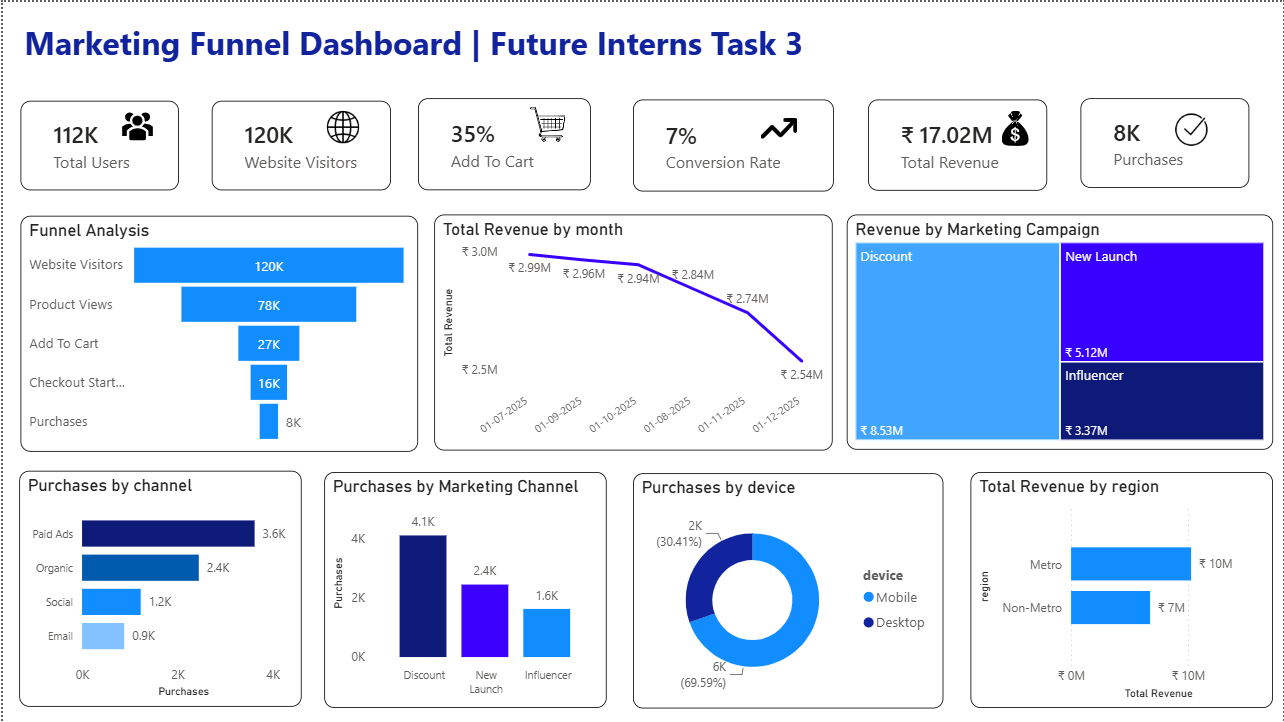

Layout of this report page (visuals, bound fields, positions):
{"tool":"powerbi","page":{"name":"Page 1","canvas":[1280,720],"ordinal":0},"visuals":[{"type":"cardVisual","fields":{"Data":["d2c_marketing_funnel_data.Total Users"]},"box":[17.2,99,158.4,89.8],"z":0},{"type":"cardVisual","fields":{"Data":["d2c_marketing_funnel_data.Website Visitors"]},"box":[208.5,99,179.5,89.8],"z":1000},{"type":"cardVisual","fields":{"Data":["d2c_marketing_funnel_data.Conversion Rate"]},"box":[629.6,97.7,200.6,92.4],"z":2000},{"type":"cardVisual","fields":{"Data":["d2c_marketing_funnel_data.Product to Cart %"]},"box":[414.4,96.4,172.9,92.4],"z":3000},{"type":"cardVisual","fields":{"Data":["d2c_marketing_funnel_data.Total Revenue"]},"box":[864.5,97.7,179.5,91.1],"z":4000},{"type":"cardVisual","fields":{"Data":["d2c_marketing_funnel_data.Purchases"]},"box":[1077,96.4,168.9,89.8],"z":5000},{"type":"funnel","title":"Funnel Analysis","fields":{"Y":["d2c_marketing_funnel_data.Website Visitors","d2c_marketing_funnel_data.Product Views","d2c_marketing_funnel_data.Add To Cart","d2c_marketing_funnel_data.Checkout Started","d2c_marketing_funnel_data.Purchases"]},"box":[17.2,213.8,397.3,236.3],"z":6000},{"type":"lineChart","fields":{"Y":["d2c_marketing_funnel_data.Total Revenue"],"Category":["d2c_marketing_funnel_data.month"]},"box":[431.6,212.5,398.6,236.3],"z":7000},{"type":"clusteredBarChart","fields":{"Category":["d2c_marketing_funnel_data.channel"],"Y":["d2c_marketing_funnel_data.Purchases"]},"box":[15.8,468.6,282.5,236.3],"z":8000},{"type":"clusteredColumnChart","title":"Purchases by Marketing Channel","fields":{"Category":["d2c_marketing_funnel_data.campaign_type"],"Y":["d2c_marketing_funnel_data.Purchases"]},"box":[320.7,469.9,282.5,236.3],"z":9000},{"type":"donutChart","fields":{"Y":["d2c_marketing_funnel_data.Purchases"],"Category":["d2c_marketing_funnel_data.device"]},"box":[629.6,471.2,310.2,234.9],"z":10000},{"type":"barChart","fields":{"Y":["d2c_marketing_funnel_data.Total Revenue"],"Category":["d2c_marketing_funnel_data.region"]},"box":[967.5,469.9,302.2,236.3],"z":11000},{"type":"treemap","title":"Revenue by Marketing Campaign","fields":{"Group":["d2c_marketing_funnel_data.campaign_type"],"Values":["d2c_marketing_funnel_data.Total Revenue"]},"box":[843.4,212.5,426.3,234.9],"z":12000},{"type":"textbox","box":[15.8,13.2,813,59.4],"z":13000},{"type":"image","box":[112.5,103.9,44,40.4],"z":13001},{"type":"image","box":[525.8,105.2,36.7,35.5],"z":13002},{"type":"image","box":[994.2,108.8,36.7,35.5],"z":13003},{"type":"image","box":[320.4,107.6,40.4,35.5],"z":13004},{"type":"image","box":[756.9,108.8,36.7,35.5],"z":13005},{"type":"image","box":[1170.3,110.1,36.7,35.5],"z":13006}]}

Visuals, with their boxes in screenshot pixels (x1, y1, x2, y2), scaled from the page's 1280x720 canvas onto the 1284x722 screenshot:
cardVisual - d2c_marketing_funnel_data.Total Users: (17,99,176,189)
cardVisual - d2c_marketing_funnel_data.Website Visitors: (209,99,389,189)
cardVisual - d2c_marketing_funnel_data.Conversion Rate: (632,98,833,191)
cardVisual - d2c_marketing_funnel_data.Product to Cart %: (416,97,589,189)
cardVisual - d2c_marketing_funnel_data.Total Revenue: (867,98,1047,189)
cardVisual - d2c_marketing_funnel_data.Purchases: (1080,97,1250,187)
"Funnel Analysis" funnel: (17,214,416,451)
lineChart - d2c_marketing_funnel_data.Total Revenue x d2c_marketing_funnel_data.month: (433,213,833,450)
clusteredBarChart - d2c_marketing_funnel_data.channel x d2c_marketing_funnel_data.Purchases: (16,470,299,707)
"Purchases by Marketing Channel" clusteredColumnChart: (322,471,605,708)
donutChart - d2c_marketing_funnel_data.Purchases x d2c_marketing_funnel_data.device: (632,473,943,708)
barChart - d2c_marketing_funnel_data.Total Revenue x d2c_marketing_funnel_data.region: (971,471,1274,708)
"Revenue by Marketing Campaign" treemap: (846,213,1274,449)
textbox: (16,13,831,73)
image: (113,104,157,145)
image: (527,105,564,141)
image: (997,109,1034,145)
image: (321,108,362,143)
image: (759,109,796,145)
image: (1174,110,1211,146)
